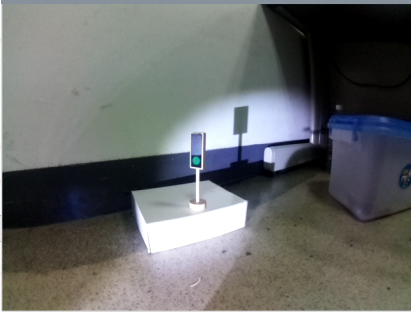Green: (187, 131, 208, 171)
